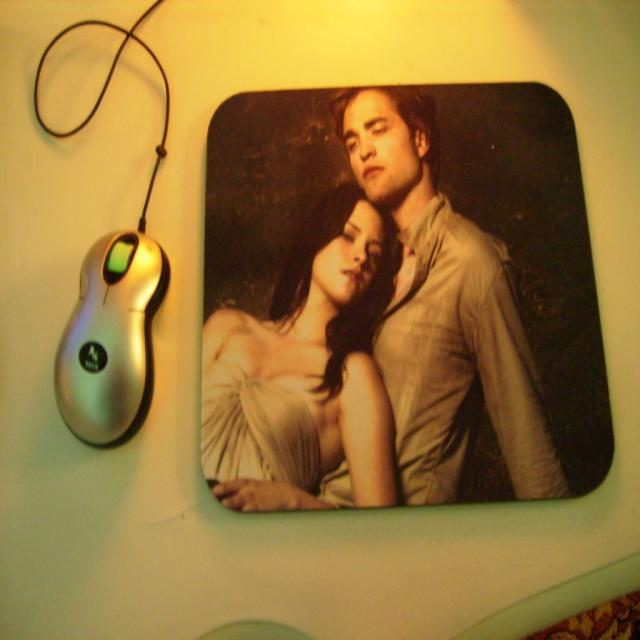Computer-mouse: (52, 227, 165, 444)
